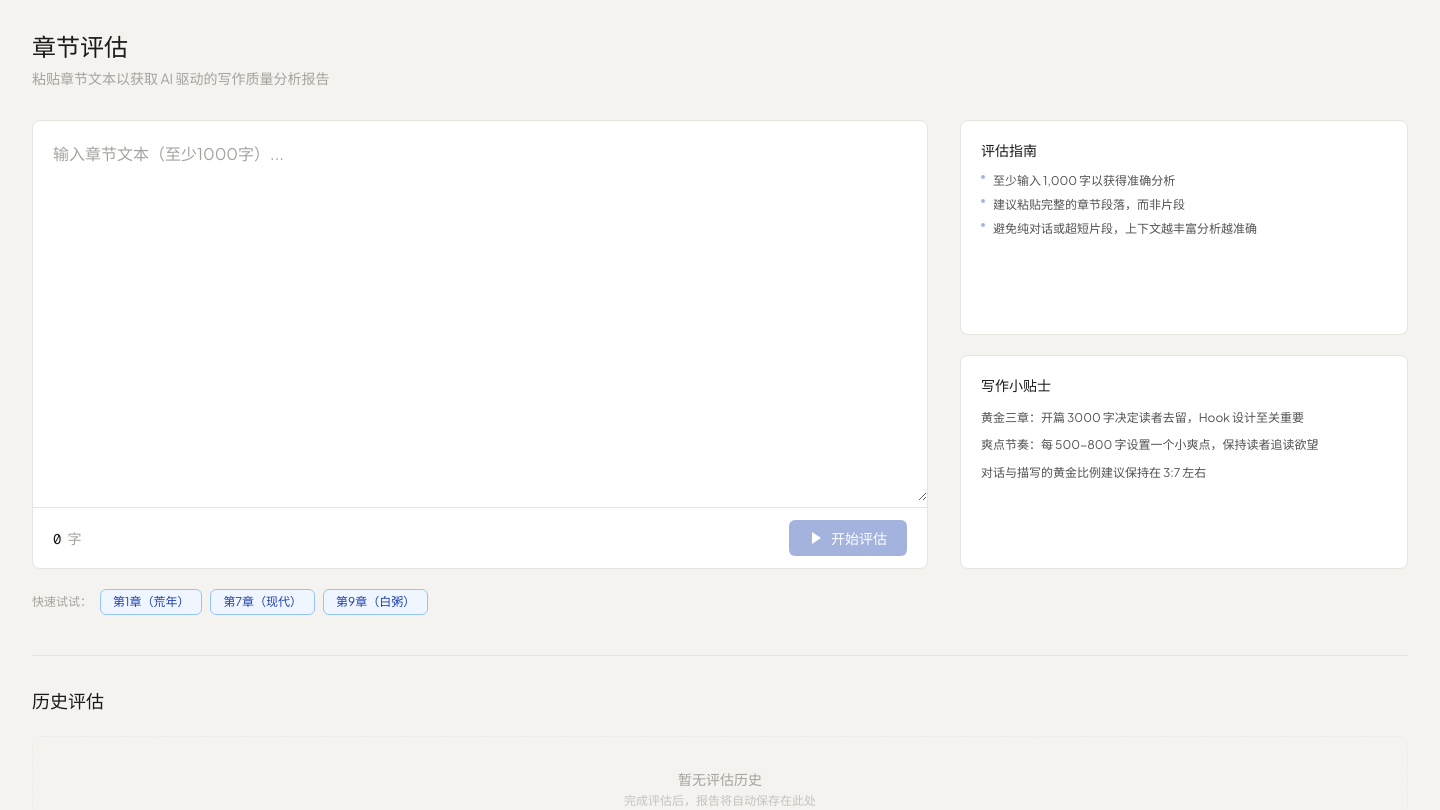
Test: EvaluatePage › should display character count and update on input
expect the text with test id "char-count" reads "0": met, box [53,530,61,548]
Type "测试文本内容" into the text box with placeholder "输入章节文本（至少1000字）..." at (480, 311), box [33,121,927,501]
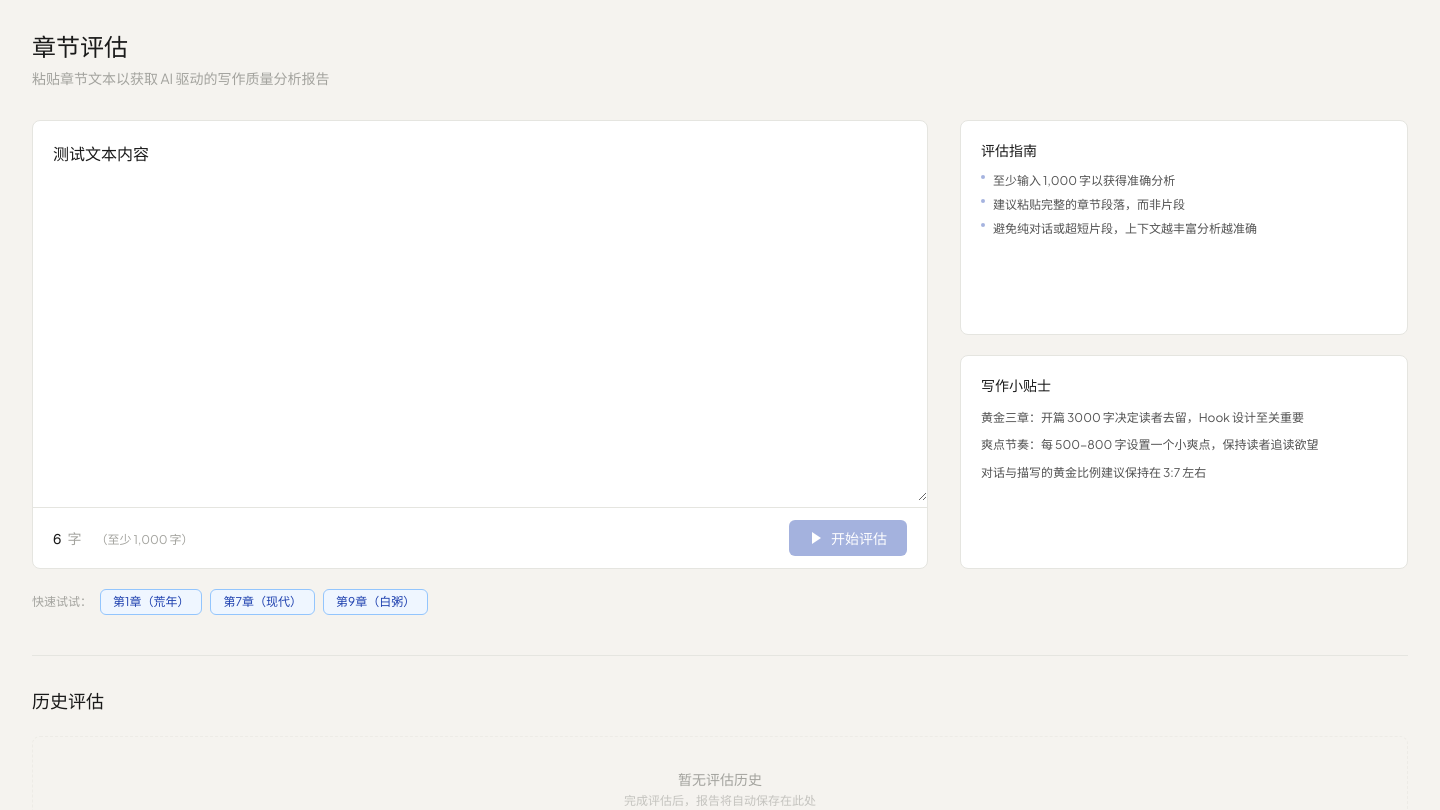
expect the text with test id "char-count" reads "6": met, box [53,530,61,548]
